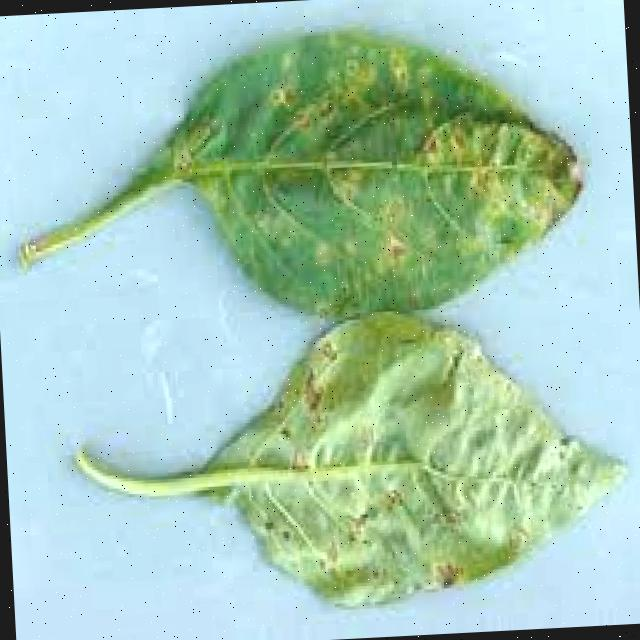leaf spot: (140, 12, 640, 630)
